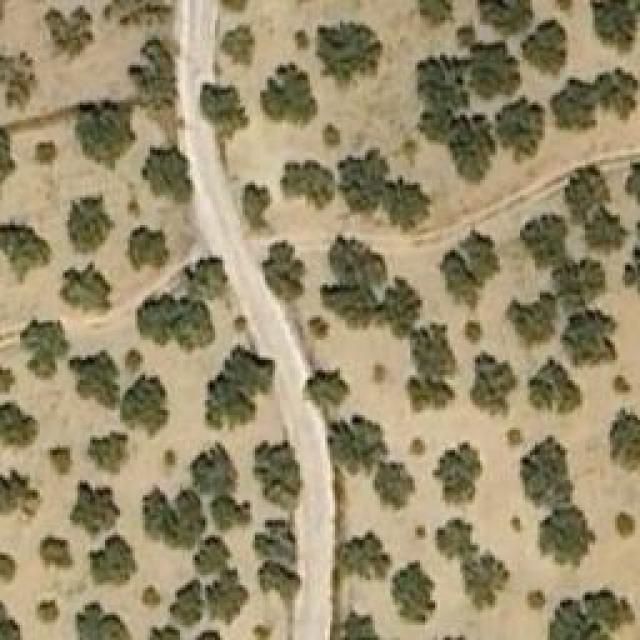Tree: (138, 293, 215, 364), (385, 550, 450, 634), (0, 210, 61, 293), (330, 525, 399, 596), (317, 18, 385, 88), (245, 438, 309, 509), (328, 140, 388, 214), (78, 98, 137, 173), (138, 38, 191, 119), (438, 112, 500, 181), (326, 230, 388, 299), (272, 157, 337, 222), (262, 62, 327, 126), (368, 443, 430, 506), (563, 310, 626, 372), (373, 175, 433, 239), (460, 550, 514, 621), (118, 372, 176, 438), (550, 595, 635, 640), (225, 342, 284, 406), (322, 418, 387, 476), (315, 278, 376, 339), (138, 134, 200, 194), (463, 352, 518, 419), (530, 358, 591, 418), (57, 255, 121, 312), (530, 513, 595, 569), (138, 490, 205, 543), (375, 267, 427, 335), (18, 310, 69, 379), (443, 230, 497, 294), (433, 440, 483, 509), (65, 470, 122, 530), (200, 83, 255, 145), (68, 350, 124, 410), (263, 245, 310, 316), (530, 450, 575, 524), (418, 48, 473, 108), (587, 2, 640, 62), (500, 93, 551, 155), (508, 283, 563, 340), (465, 43, 523, 97), (548, 73, 606, 127), (180, 255, 237, 309), (530, 213, 582, 272), (102, 0, 175, 42), (403, 325, 459, 378), (548, 258, 606, 309), (305, 368, 354, 428), (0, 462, 42, 532), (60, 200, 116, 252), (203, 376, 253, 434), (48, 0, 101, 54), (525, 18, 569, 81), (563, 155, 611, 212), (405, 368, 459, 418), (258, 558, 307, 612), (93, 418, 137, 478), (93, 525, 140, 581), (183, 525, 236, 574), (250, 515, 300, 566), (595, 64, 640, 120), (188, 440, 236, 492), (170, 575, 214, 631), (607, 408, 640, 482), (0, 42, 40, 103), (233, 180, 277, 235), (213, 578, 257, 632), (475, 0, 532, 40), (130, 218, 174, 269), (80, 598, 131, 640), (435, 513, 481, 559), (32, 535, 76, 579), (617, 217, 640, 300), (587, 205, 630, 249), (0, 403, 37, 454), (205, 492, 247, 536), (215, 25, 260, 66), (45, 440, 85, 485), (339, 607, 392, 640), (417, 105, 459, 145), (0, 592, 30, 640), (615, 145, 640, 200), (113, 340, 150, 377), (295, 312, 328, 352), (420, 0, 457, 33), (363, 360, 395, 396), (245, 610, 283, 640), (400, 426, 435, 458), (320, 118, 351, 153), (150, 613, 188, 640), (223, 308, 256, 339), (33, 590, 67, 620), (0, 119, 15, 183), (458, 315, 488, 347), (140, 580, 170, 611), (0, 545, 21, 589), (38, 138, 65, 169), (453, 23, 483, 50), (610, 375, 636, 404), (160, 443, 181, 475), (523, 583, 551, 605), (220, 0, 256, 17), (498, 425, 524, 448), (198, 620, 228, 639), (0, 367, 15, 402)
